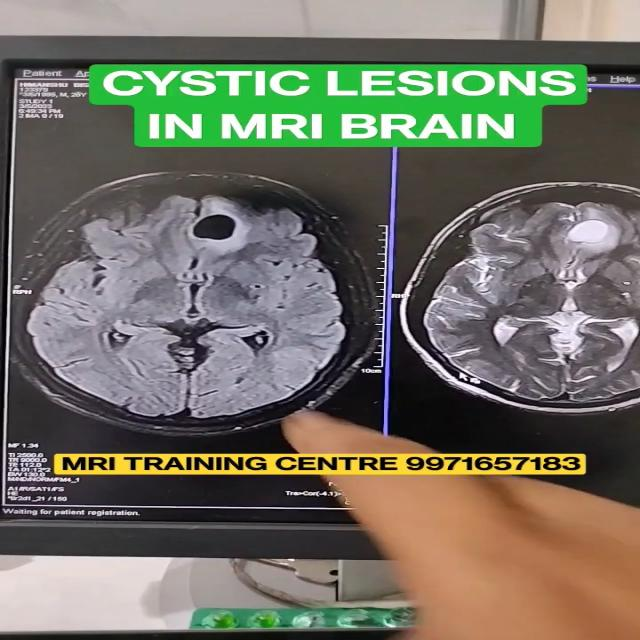tumor: (555, 206, 640, 255), (172, 204, 262, 248)
